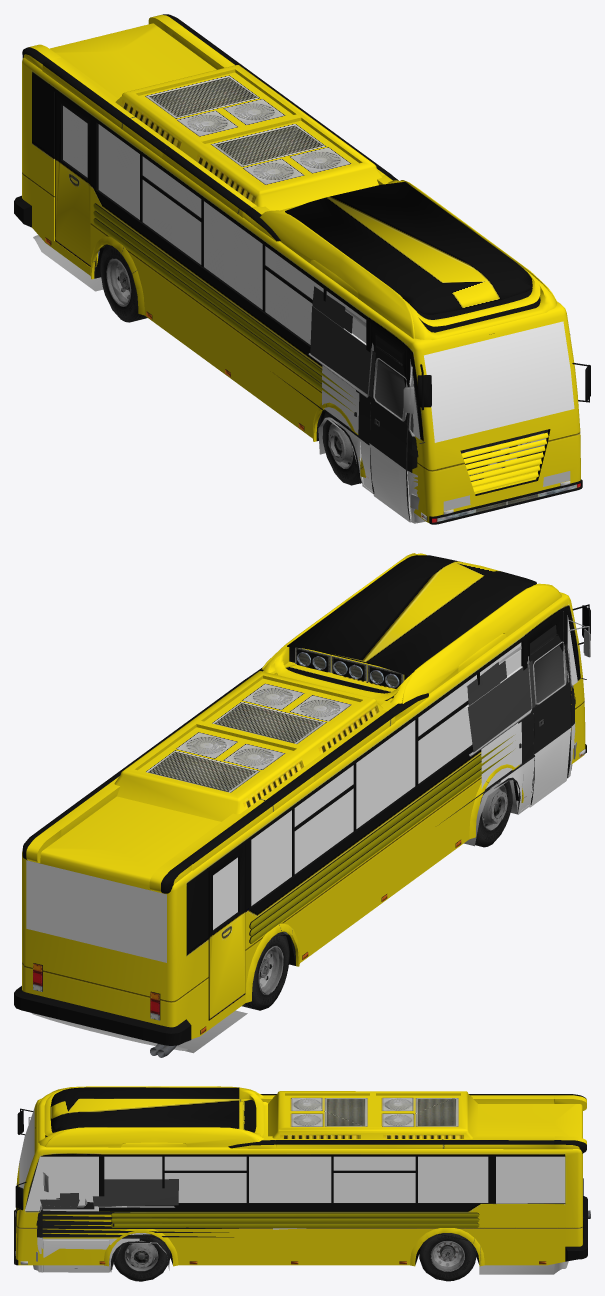
File: bus2.glb
3 views of the same model, one above another, from view 1: azimuth 30°, elevation 25°; view 2: azimuth 150°, elevation 25°; view 3: azimuth 270°, elevation 25° (orthographic). The views are drawn at different scales.
Parts seen in each view (by area): view 1: Exterior_1, Glass, windscreen, Object007_exterior_0, stuff101, chassis, nutr, Object004_glass_0, wheel_3, reflect_1, stuff2, wheel_1 (+1 smaller); view 2: Exterior_1, Glass, windscreen, Object007_exterior_0, stuff101, chassis, nutr, Object004_glass_0, wheel_3, stuff2, reflect_1, refect_1 (+1 smaller); view 3: Exterior_1, Glass, chassis, stuff101, wheel_2, wheel, windscreen, reflect, refect, stuff2.
Part boxes in pixels (box(x1,y1,x2,y2)): Exterior_1: box(14, 14, 590, 524); Glass: box(98, 124, 574, 442); windscreen: box(33, 235, 419, 522); Object007_exterior_0: box(55, 92, 96, 267); stuff101: box(310, 286, 375, 397); chassis: box(279, 333, 570, 523); nutr: box(322, 365, 547, 475); Object004_glass_0: box(63, 106, 87, 177); wheel_3: box(100, 244, 147, 322); reflect_1: box(106, 258, 130, 306); stuff2: box(308, 286, 425, 523); wheel_1: box(322, 410, 361, 485); Exterior_1: box(14, 553, 590, 1045); Glass: box(26, 615, 577, 962); windscreen: box(31, 630, 571, 1053); Object007_exterior_0: box(208, 844, 245, 1020); stuff101: box(467, 660, 535, 752); chassis: box(439, 611, 590, 824); nutr: box(481, 675, 571, 788); Object004_glass_0: box(213, 857, 237, 929); wheel_3: box(242, 932, 289, 1010); stuff2: box(464, 646, 573, 846); reflect_1: box(258, 946, 283, 994); refect_1: box(482, 782, 507, 830); Exterior_1: box(14, 1086, 587, 1266); Glass: box(19, 1108, 565, 1211); chassis: box(28, 1117, 238, 1272); stuff101: box(40, 1179, 178, 1208); wheel_2: box(419, 1233, 476, 1281); wheel: box(113, 1234, 170, 1281); windscreen: box(26, 1159, 568, 1274); reflect: box(431, 1241, 464, 1271); refect: box(124, 1240, 158, 1271); stuff2: box(38, 1199, 174, 1272).
Size of the model in its own units: 2.35 by 2.75 by 9.48.
17 materials, 6 textured.
